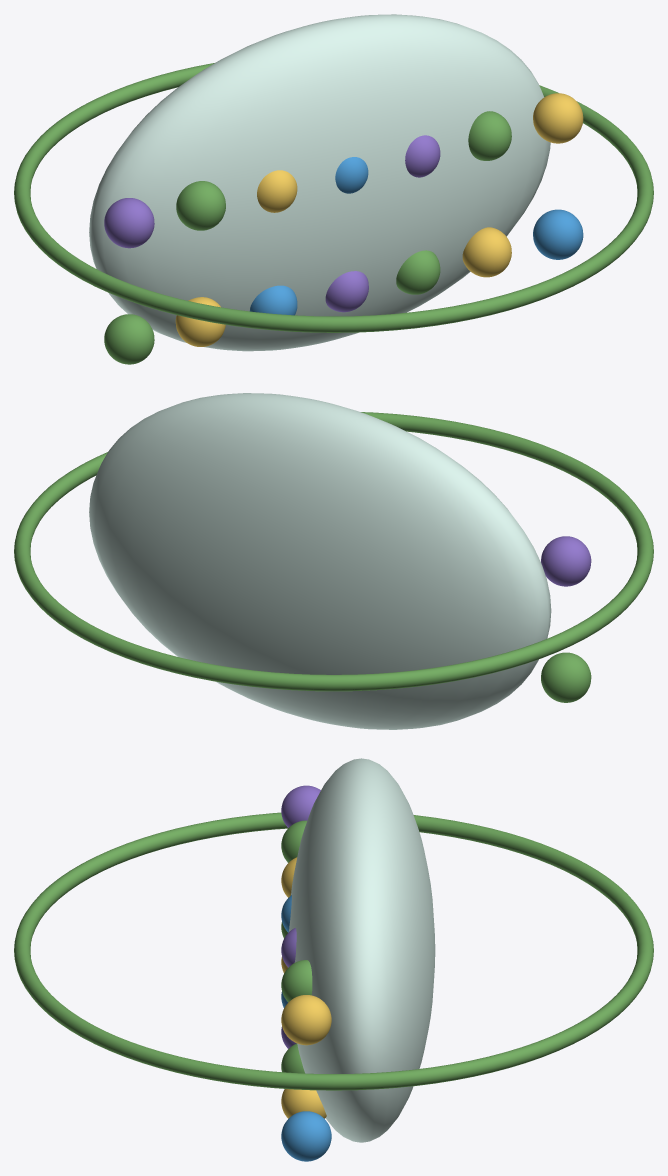
Rendered from bio-p1-microbiome.glb.
3 renders of one model, top to bottom at view 1: azimuth 30°, elevation 25°; view 2: azimuth 150°, elevation 25°; view 3: azimuth 270°, elevation 25°, orthographic.
Visible parts, largest first — view 1: gut-home-habitat, balanced-community-ring, friendly-microbe-13, friendly-microbe-7, friendly-microbe-0, friendly-microbe-6, friendly-microbe-8, friendly-microbe-5, friendly-microbe-12, friendly-microbe-4, friendly-microbe-3, friendly-microbe-9 (+4 smaller); view 2: gut-home-habitat, balanced-community-ring, friendly-microbe-0, friendly-microbe-7; view 3: gut-home-habitat, balanced-community-ring, friendly-microbe-13, friendly-microbe-6, friendly-microbe-7, friendly-microbe-12, friendly-microbe-5, friendly-microbe-8.
Boxes of the visible parts, x1,y1,x2,y2 form: gut-home-habitat: (89, 14, 550, 351); balanced-community-ring: (14, 63, 653, 332); friendly-microbe-13: (533, 93, 583, 143); friendly-microbe-7: (104, 198, 154, 248); friendly-microbe-0: (104, 314, 154, 364); friendly-microbe-6: (533, 209, 583, 259); friendly-microbe-8: (176, 181, 225, 230); friendly-microbe-5: (462, 227, 511, 277); friendly-microbe-12: (468, 111, 511, 160); friendly-microbe-4: (396, 250, 440, 294); friendly-microbe-3: (325, 271, 368, 312); friendly-microbe-9: (257, 170, 297, 212); gut-home-habitat: (89, 393, 551, 729); balanced-community-ring: (14, 412, 653, 691); friendly-microbe-0: (541, 652, 591, 702); friendly-microbe-7: (541, 536, 591, 586); gut-home-habitat: (289, 758, 435, 1142); balanced-community-ring: (14, 812, 653, 1090); friendly-microbe-13: (281, 995, 331, 1045); friendly-microbe-6: (281, 1111, 331, 1161); friendly-microbe-7: (281, 785, 320, 827); friendly-microbe-12: (281, 960, 312, 1002); friendly-microbe-5: (281, 1089, 326, 1118); friendly-microbe-8: (281, 820, 306, 862).
Size of what is drawn, in the model's own units: 1.4 by 0.7544 by 1.4.
